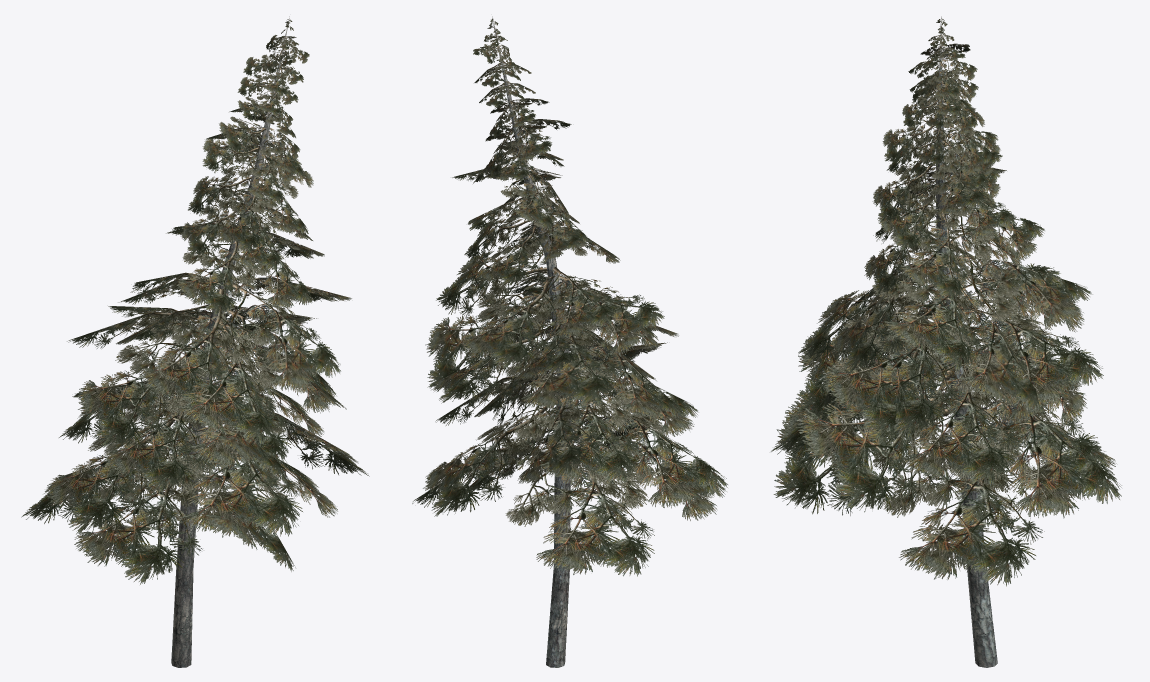
Rendered from pine_e.dae.
3 renders of one model, left to right at view 1: azimuth 30°, elevation 25°; view 2: azimuth 150°, elevation 25°; view 3: azimuth 270°, elevation 25°, orthographic. The views are drawn at different scales.
Visible parts, largest first — view 1: pine_e; view 2: pine_e; view 3: pine_e.
Part boxes in pixels (box(x1,y1,x2,y2)): pine_e: box(21, 16, 369, 667); pine_e: box(412, 16, 727, 667); pine_e: box(771, 16, 1121, 667).
Size of the model in its own units: 446 by 449 by 929.
